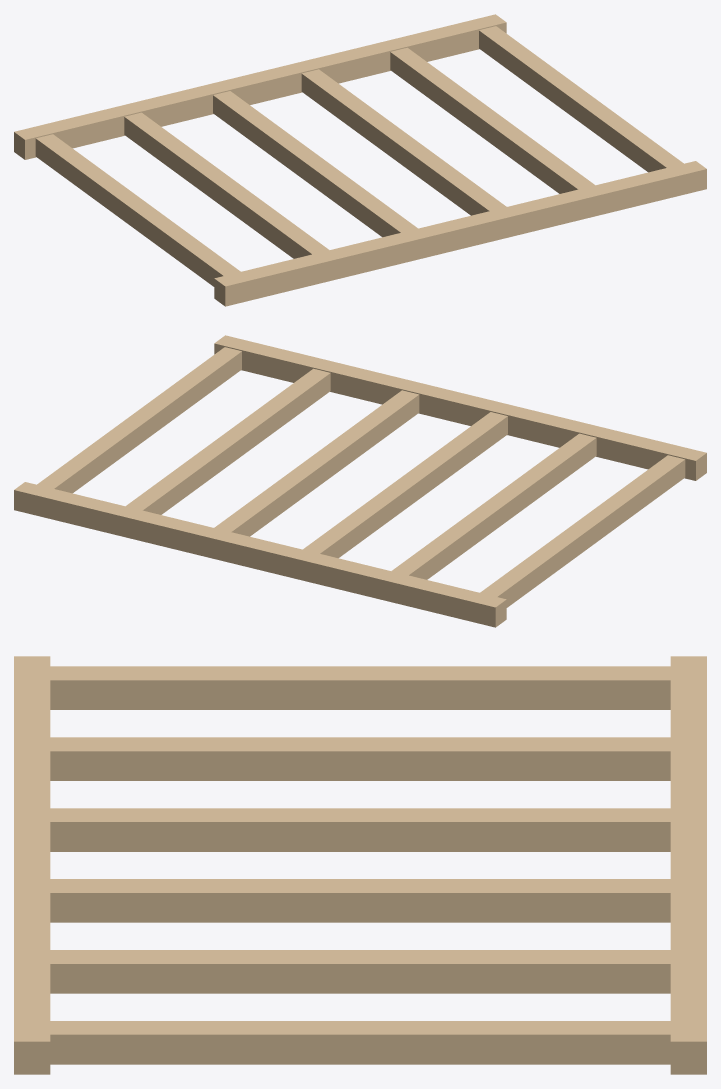
The model's file is wall-framing.glb.
3 renders of one model, top to bottom at view 1: azimuth 30°, elevation 25°; view 2: azimuth 150°, elevation 25°; view 3: azimuth 270°, elevation 25°, orthographic. The views are drawn at different scales.
Visible parts, largest first — view 1: world; view 2: world; view 3: world.
Part boxes in pixels (left/top/right/bottom): world: left=14, top=14, right=706, bottom=306; world: left=14, top=335, right=706, bottom=627; world: left=14, top=656, right=706, bottom=1074.
Bounding box in the file's own units: 2.5 × 0.1 × 1.9.
